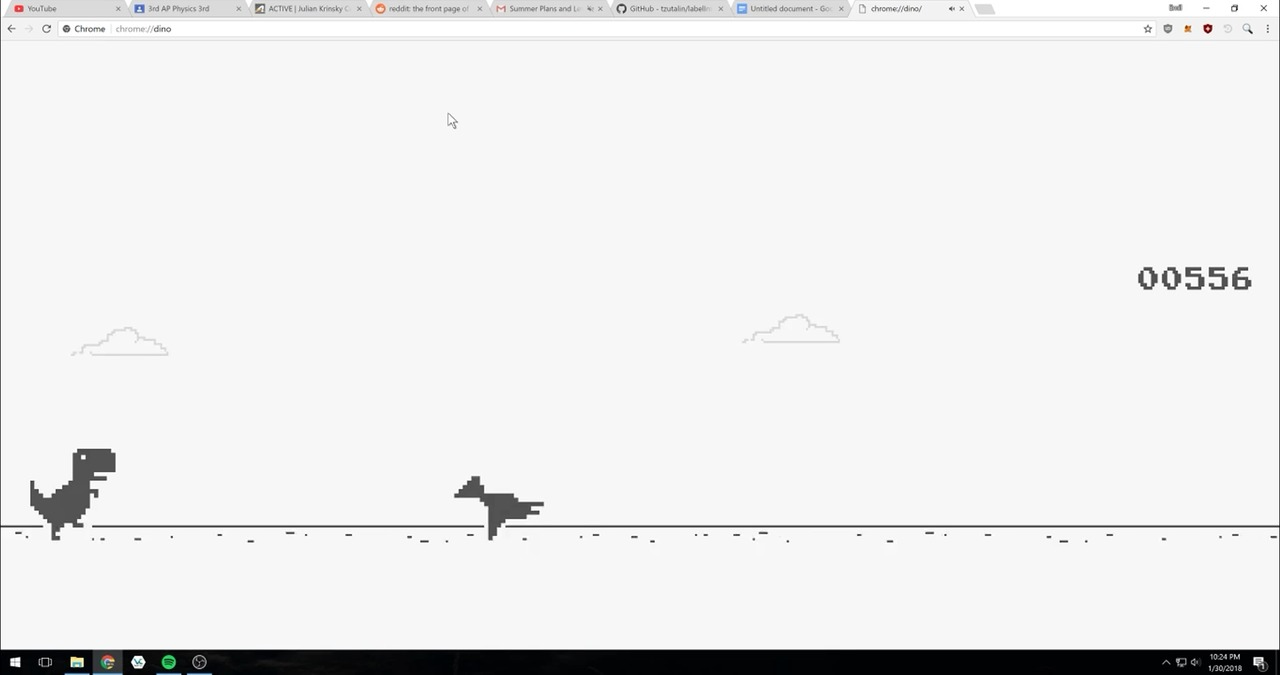bird: (452, 472, 546, 544)
dinosaur: (29, 444, 117, 543)
